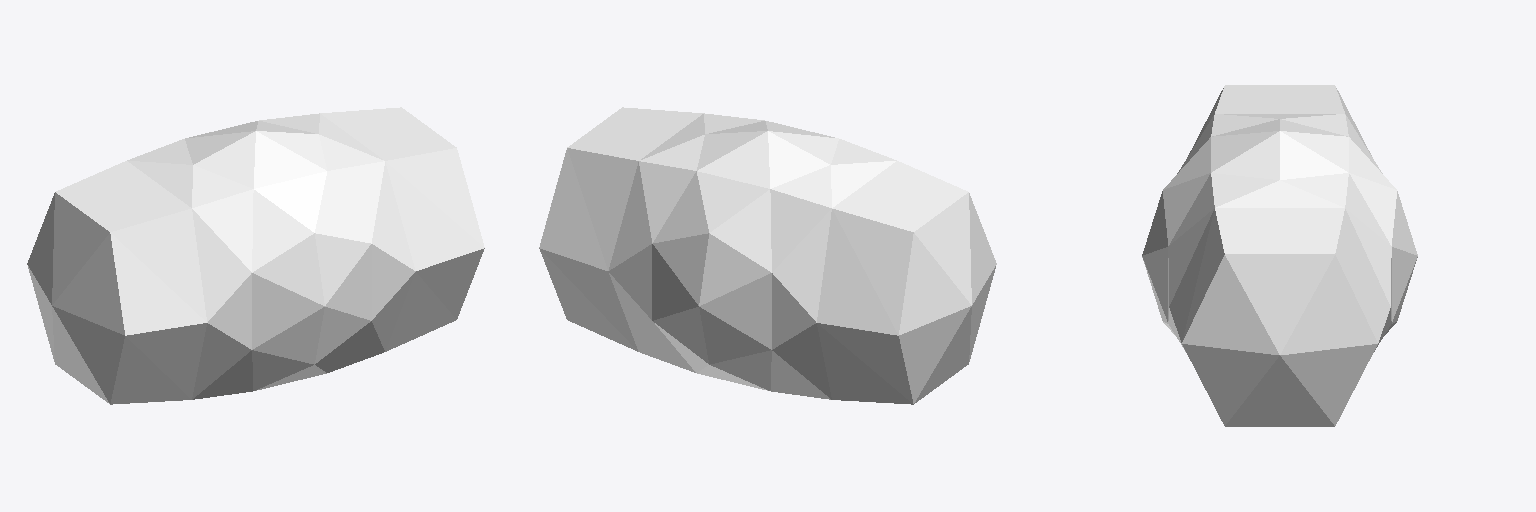
File: Block Target.obj
The picture shows the model from 3 angles: view 1: azimuth 30°, elevation 25°; view 2: azimuth 150°, elevation 25°; view 3: azimuth 270°, elevation 25°; orthographic projection.
Parts seen in each view (by area): view 1: Block Target; view 2: Block Target; view 3: Block Target.
Boxes of the visible parts, x1=… form: Block Target: x1=27, y1=107, x2=484, y2=404; Block Target: x1=539, y1=107, x2=996, y2=404; Block Target: x1=1142, y1=85, x2=1417, y2=426.
Bounding box in the file's own units: 0.512 × 0.3 × 0.3.